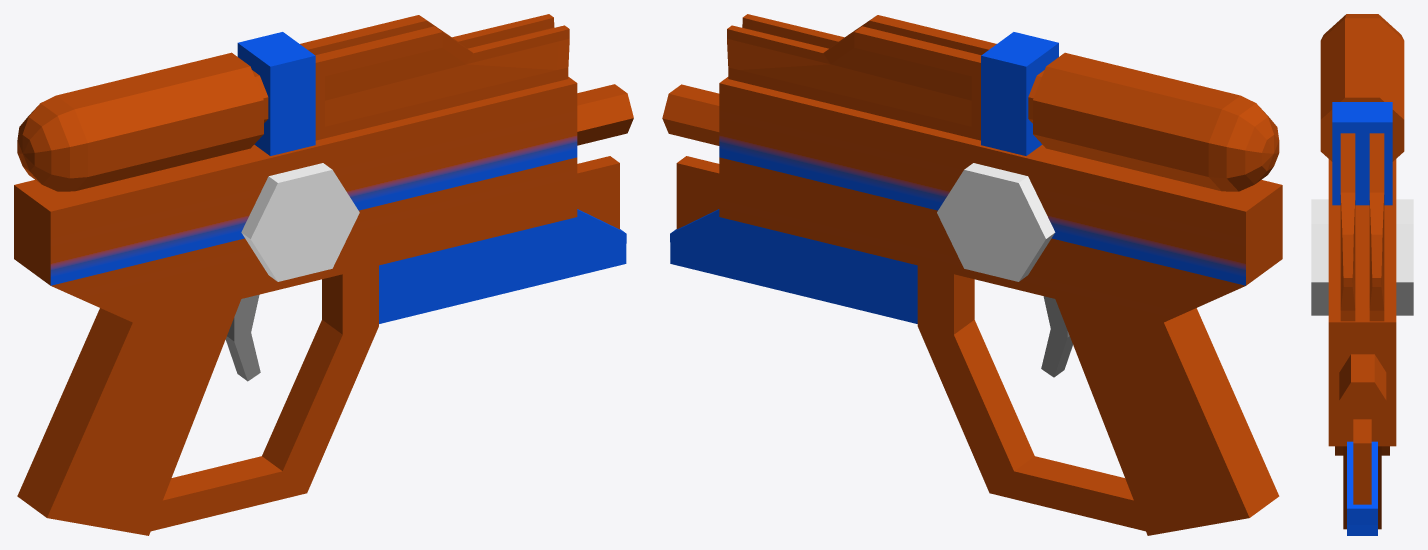
The model's file is sungnuoc.fbx.
3 views of the same model, side by side, from view 1: azimuth 30°, elevation 25°; view 2: azimuth 150°, elevation 25°; view 3: azimuth 270°, elevation 25° (orthographic). The views are drawn at different scales.
Visible parts, largest first — view 1: sungnuoc; view 2: sungnuoc; view 3: sungnuoc.
Part boxes in pixels (x1,y1,x2,y2): sungnuoc: (14,14,633,535); sungnuoc: (662,14,1282,535); sungnuoc: (1311,14,1413,535).
Size of the model in its own units: 3 by 2.11 by 0.4801.
